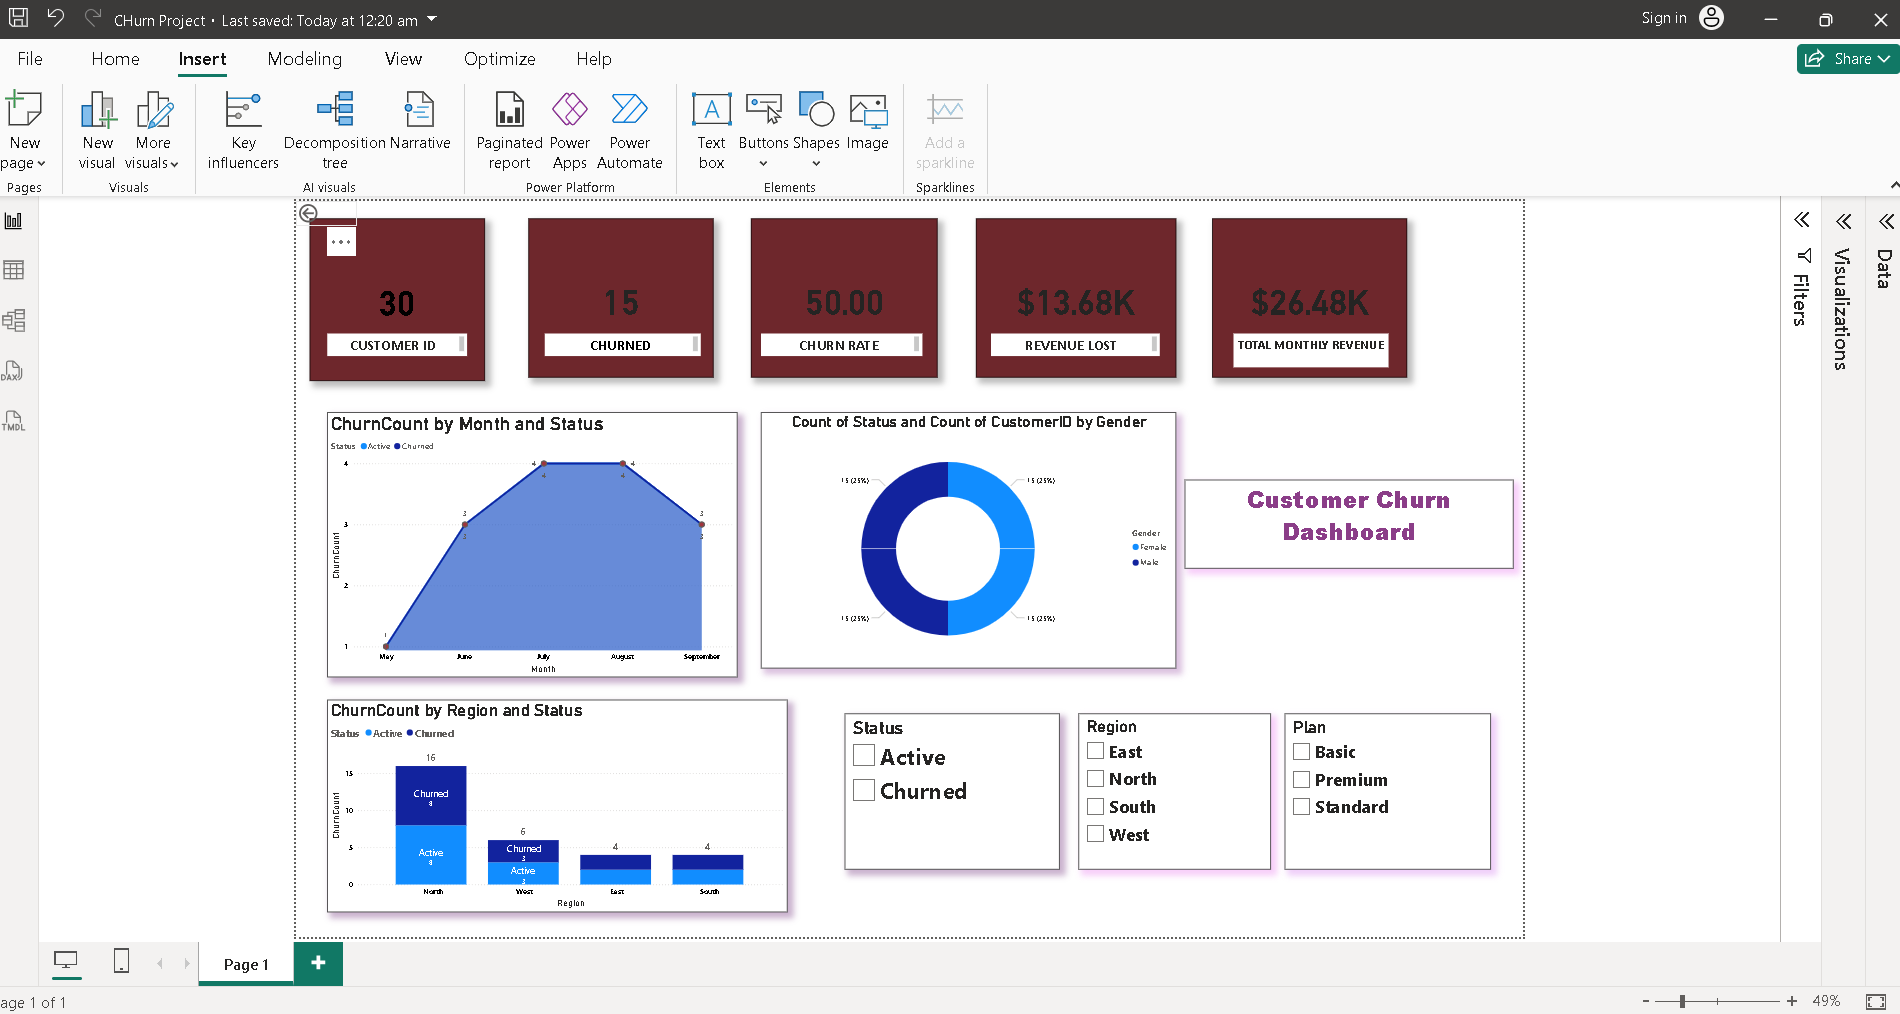

What the dashboard file says about the page in this screenshot:
{"tool":"powerbi","page":{"name":"Page 1","canvas":[2000,1200],"ordinal":0},"visuals":[{"type":"card","fields":{"Values":["Count(Sheet1.CustomerID)"]},"box":[22.4,28.5,285.3,264.9],"z":0},{"type":"card","fields":{"Values":["Count(Sheet1.CustomerID)"]},"box":[379.1,28.5,301.6,258.8],"z":1000},{"type":"actionButton","box":[0,0,100,40],"z":2000},{"type":"card","fields":{"Values":["Sheet1.ChurnRate"]},"box":[741.9,28.5,303.7,258.8],"z":3000},{"type":"card","fields":{"Values":["Sheet1.TotalMonthlyRevenue"]},"box":[1493.9,28.5,317.9,258.8],"z":4000},{"type":"card","fields":{"Values":["Sheet1.RevenueLost"]},"box":[1108.7,28.5,326.1,258.8],"z":5000},{"type":"lineChart","fields":{"Category":["Sheet1.ChurnDate.Variation.Date Hierarchy.Month"],"Y":["Sheet1.ChurnCount"],"Series":["Sheet1.Status"]},"box":[51,344.4,668.5,432.1],"z":6000},{"type":"columnChart","fields":{"Category":["Sheet1.Region"],"Y":["Sheet1.ChurnCount"],"Series":["Sheet1.Status"]},"box":[51,813.2,750,346.5],"z":7000},{"type":"donutChart","fields":{"Category":["Sheet1.Gender"],"Y":["CountNonNull(Sheet1.Status)","CountNonNull(Sheet1.CustomerID)"]},"box":[758.2,344.4,676.6,417.8],"z":8000},{"type":"slicer","fields":{"Values":["Sheet1.Plan"]},"box":[1612.1,835.6,336.3,254.8],"z":9000},{"type":"slicer","fields":{"Values":["Sheet1.Region"]},"box":[1275.8,835.6,313.9,254.8],"z":10000},{"type":"slicer","fields":{"Values":["Sheet1.Status"]},"box":[894.7,835.6,350.5,254.8],"z":11000},{"type":"textbox","box":[1449.1,454.5,536,144.7],"z":11001}]}

Visuals, with their boxes on the page's 2000x1200 design canvas (x1, y1, x2, y2). These are canvas units, not pixel positions in the 1900x1014 screenshot, which may show the page scaled, cropped or inside an application window:
card - Count(Sheet1.CustomerID): region(22, 28, 308, 293)
card - Count(Sheet1.CustomerID): region(379, 28, 681, 287)
actionButton: region(0, 0, 100, 40)
card - Sheet1.ChurnRate: region(742, 28, 1046, 287)
card - Sheet1.TotalMonthlyRevenue: region(1494, 28, 1812, 287)
card - Sheet1.RevenueLost: region(1109, 28, 1435, 287)
lineChart - Sheet1.ChurnDate.Variation.Date Hierarchy.Month x Sheet1.ChurnCount: region(51, 344, 720, 776)
columnChart - Sheet1.Region x Sheet1.ChurnCount: region(51, 813, 801, 1160)
donutChart - Sheet1.Gender x CountNonNull(Sheet1.Status): region(758, 344, 1435, 762)
slicer - Sheet1.Plan: region(1612, 836, 1948, 1090)
slicer - Sheet1.Region: region(1276, 836, 1590, 1090)
slicer - Sheet1.Status: region(895, 836, 1245, 1090)
textbox: region(1449, 454, 1985, 599)
